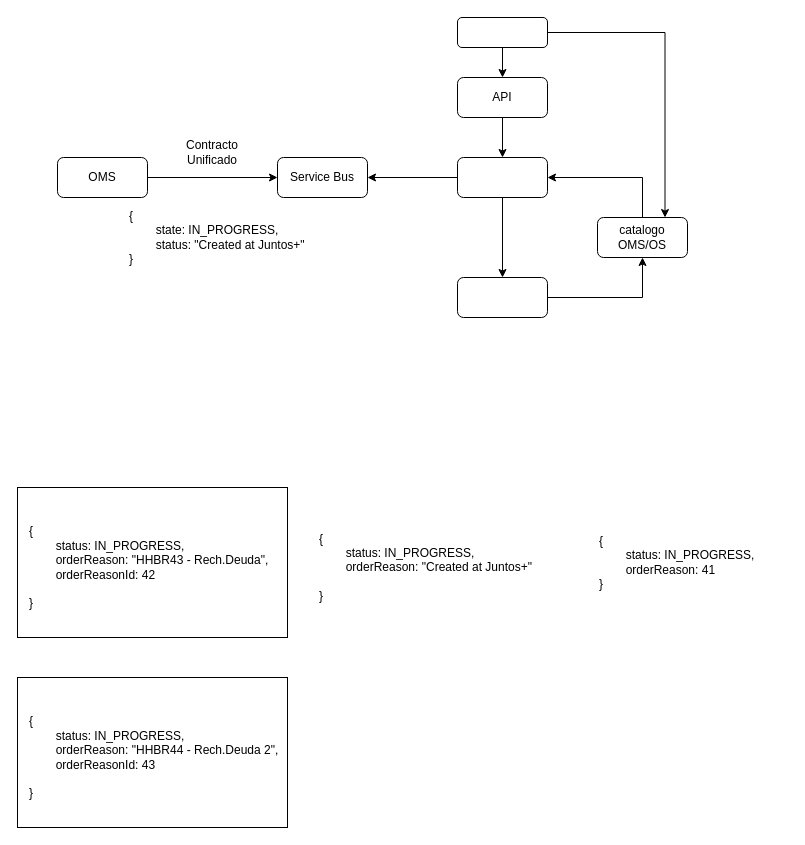
The diagram is 805 pixels wide and 845 high, and some of its shapes have lost their labels. Here are the shapes that lost their labels. From the top down, the centre of each, then its label:
At point 502,32: "Clientes".
At point 502,177: "Order Vis BFF".
At point 502,297: "Transformación del status".
